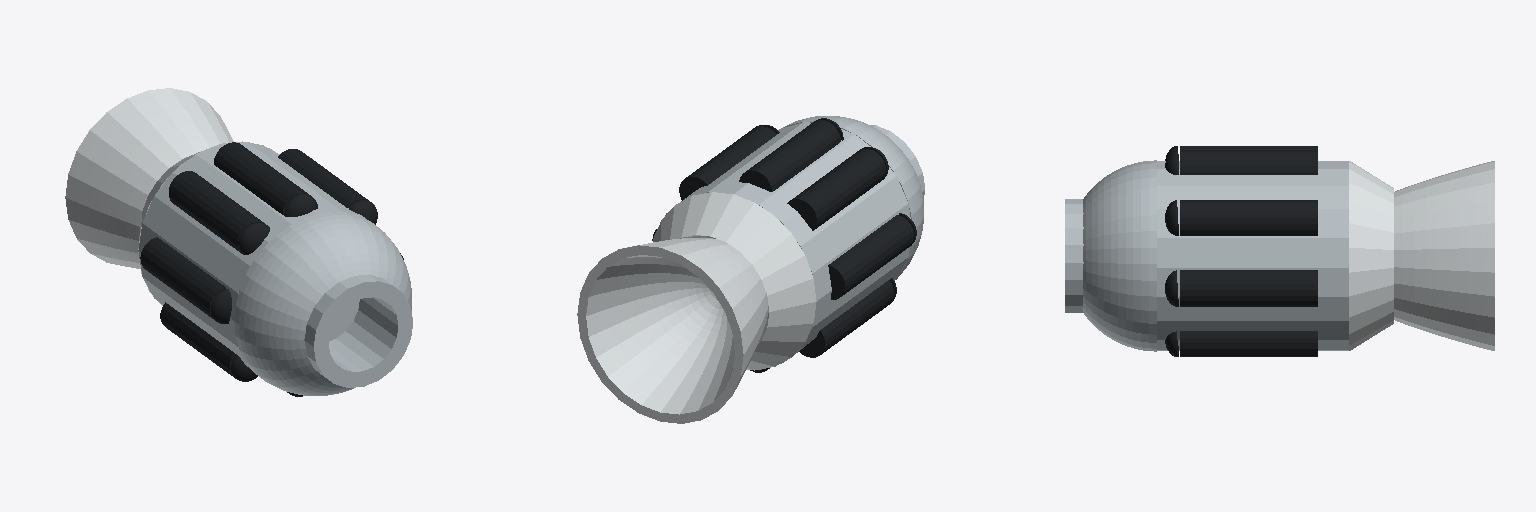
File: tinker.obj
3 views of the same model, side by side, from view 1: azimuth 30°, elevation 25°; view 2: azimuth 150°, elevation 25°; view 3: azimuth 270°, elevation 25° (orthographic).
Visible parts, largest first — view 1: obj_0; view 2: obj_0; view 3: obj_0.
Boxes of the visible parts, box(x1,y1,x2,y2) form: obj_0: box(65, 88, 412, 396); obj_0: box(577, 116, 924, 423); obj_0: box(1065, 146, 1494, 356).
Bounding box in the file's own units: 29 × 29 × 56.